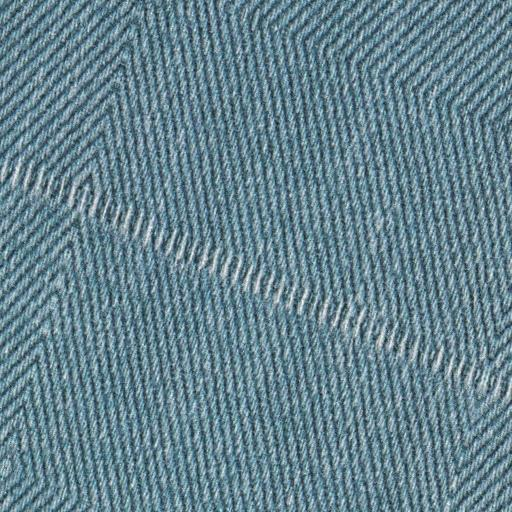slub: (2, 148, 511, 412)
